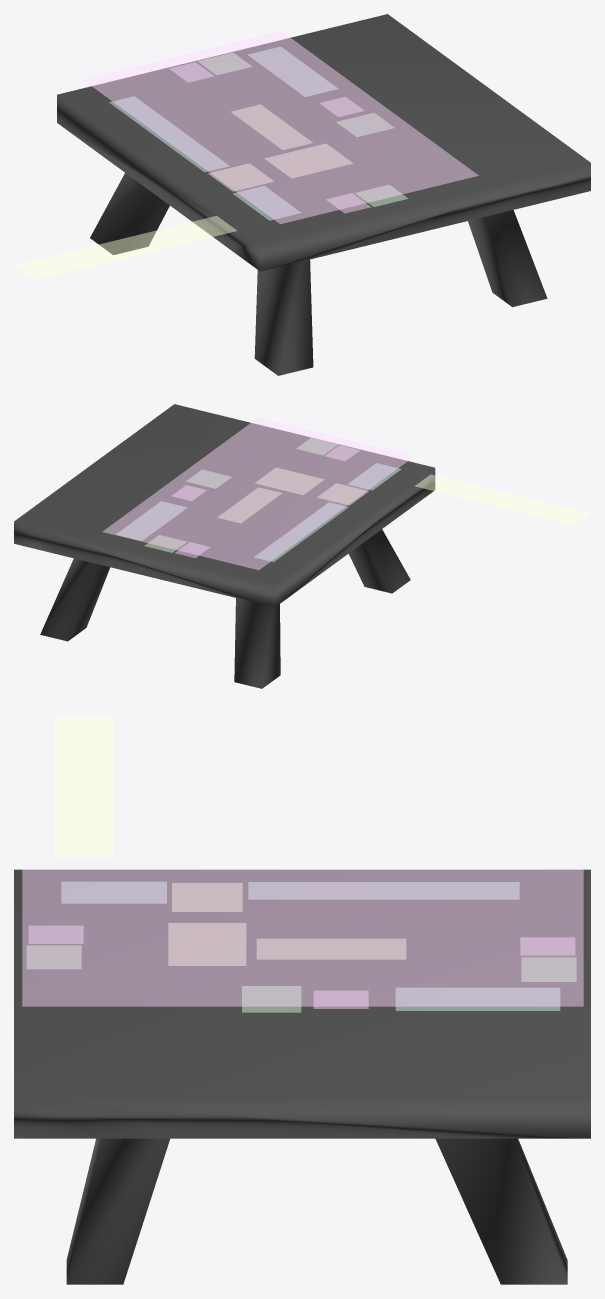
File: 3DScratchbonesTableV1.gltf
The picture shows the model from 3 angles, top to bottom: view 1: azimuth 30°, elevation 25°; view 2: azimuth 150°, elevation 25°; view 3: azimuth 270°, elevation 25°; orthographic projection. The views are drawn at different scales.
Visible parts, largest first — view 1: FOUNDATION, cinematic, sidebar, controls, topbar, log, panel, humaninfo, avatar-human, avatar-2, avatar-1, avatar-3 (+3 smaller); view 2: FOUNDATION, cinematic, sidebar, controls, topbar, log, panel, humaninfo, avatar-human, avatar-2, avatar-1, avatar-3; view 3: FOUNDATION, cinematic, sidebar, controls, topbar, log, panel, humaninfo, avatar-human, avatar-2, avatar-1, avatar-3 (+3 smaller).
Part boxes in pixels (x1,y1,x2,y2): FOUNDATION: (57,14,590,375); cinematic: (83,31,478,223); sidebar: (14,216,237,279); controls: (109,96,228,171); topbar: (248,47,337,96); log: (265,144,352,177); panel: (231,104,312,149); humaninfo: (233,186,300,220); avatar-human: (208,163,273,191); avatar-2: (337,113,393,136); avatar-1: (198,53,251,74); avatar-3: (355,185,407,206); FOUNDATION: (14,404,435,688); cinematic: (102,418,414,569); sidebar: (415,474,590,525); controls: (254,502,348,561); topbar: (116,501,186,540); log: (255,468,323,494); panel: (218,488,281,522); humaninfo: (348,463,401,490); avatar-human: (317,483,368,505); avatar-2: (186,470,230,488); avatar-1: (144,535,185,552); avatar-3: (297,438,337,454); FOUNDATION: (14,869,590,1284); cinematic: (22,869,583,1006); sidebar: (54,717,113,857); controls: (248,882,519,899); topbar: (395,988,560,1010); log: (168,923,245,965); panel: (257,939,405,959); humaninfo: (61,882,166,903); avatar-human: (172,883,242,911); avatar-2: (242,986,301,1012); avatar-1: (521,957,576,981); avatar-3: (27,945,81,968).
Size of the model in its own units: 5.54 by 1.51 by 3.6.
